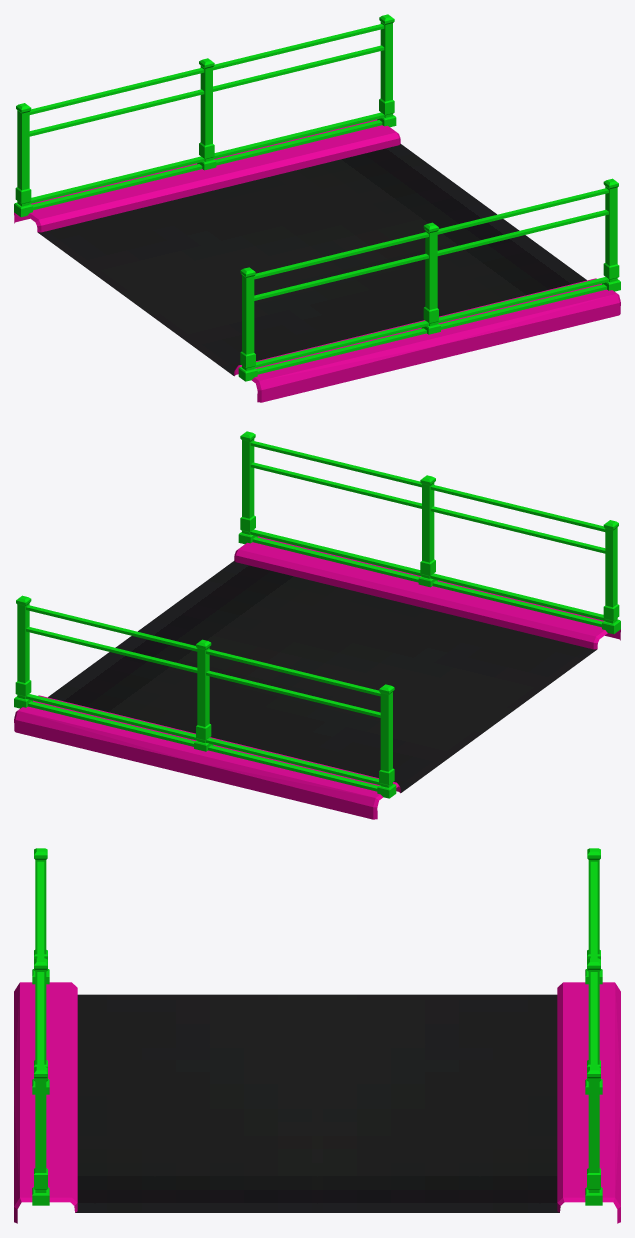
Rendered from City_Fence16.fbx.
3 views of the same model, one above another, from view 1: azimuth 30°, elevation 25°; view 2: azimuth 150°, elevation 25°; view 3: azimuth 270°, elevation 25° (orthographic). The views are drawn at different scales.
Parts seen in each view (by area): view 1: SM_City_Fence_05_Divider_01b.mo; view 2: SM_City_Fence_05_Divider_01b.mo; view 3: SM_City_Fence_05_Divider_01b.mo.
Boxes of the visible parts, bbox=[...] form: SM_City_Fence_05_Divider_01b.mo: bbox=[14, 14, 620, 402]; SM_City_Fence_05_Divider_01b.mo: bbox=[14, 431, 620, 819]; SM_City_Fence_05_Divider_01b.mo: bbox=[14, 848, 620, 1223].
Bounding box in the file's own units: 310 × 99.47 × 352.
